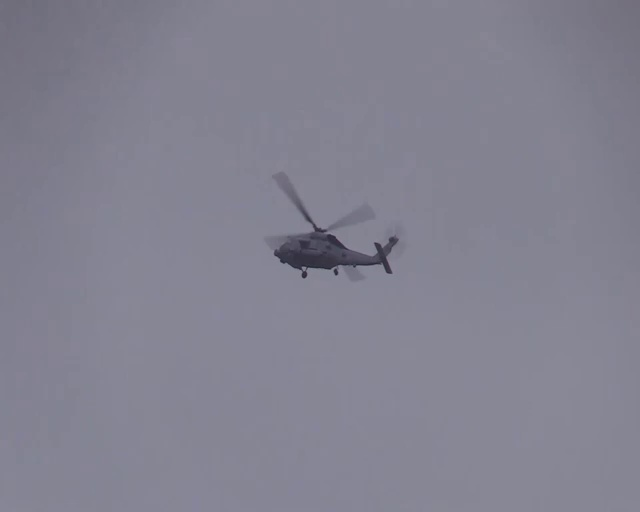HELICOPTER: (263, 169, 402, 279)
